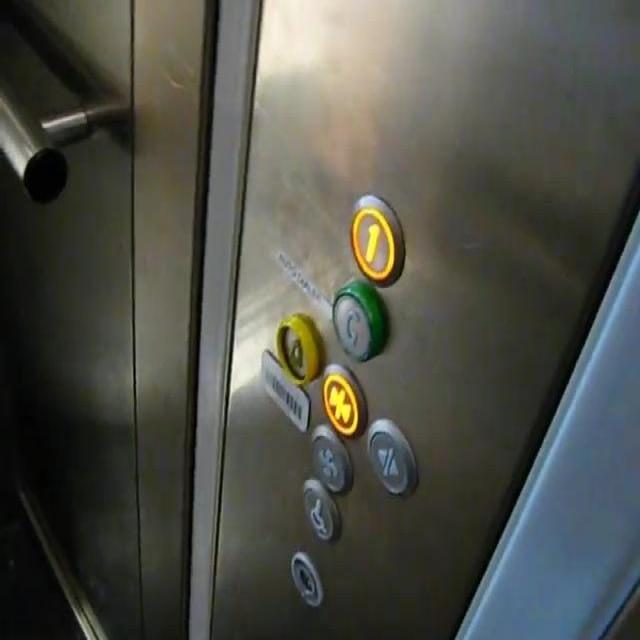1: (348, 193, 404, 287)
CH: (299, 478, 340, 542)
G: (332, 279, 385, 361)
alarm: (275, 311, 324, 384)
close: (321, 363, 368, 440)
fan: (306, 424, 354, 497)
keyhole: (289, 550, 322, 610)
open: (364, 416, 417, 496)
